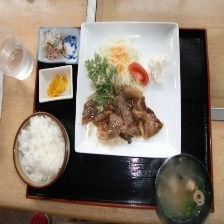rice: (13, 110, 67, 186)
